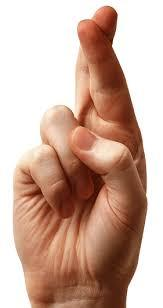Fingers-Crossed: (7, 3, 153, 294)
